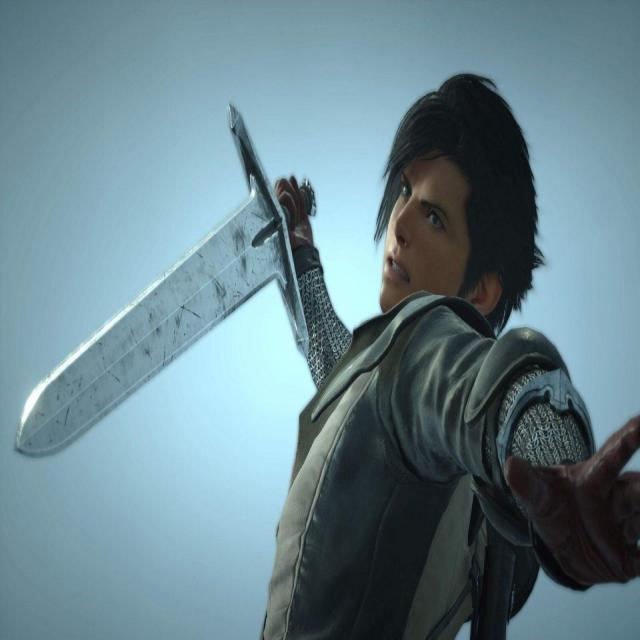sword: (13, 97, 319, 460)
